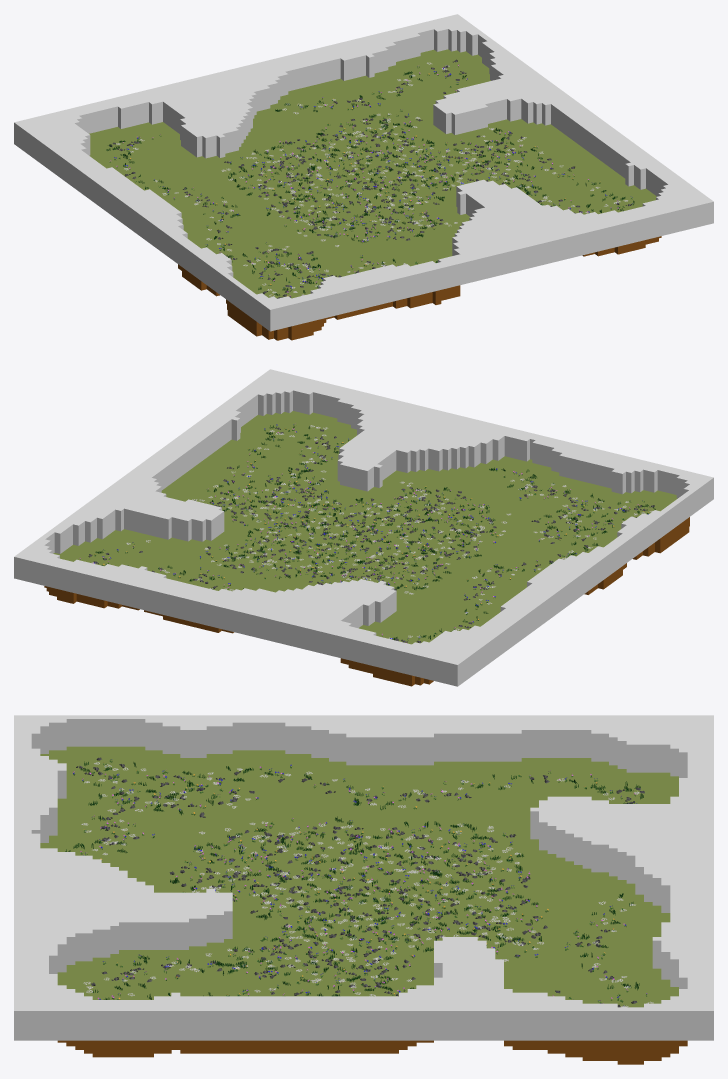
Rendered from mapa_1.fbx.
3 views of the same model, one above another, from view 1: azimuth 30°, elevation 25°; view 2: azimuth 150°, elevation 25°; view 3: azimuth 270°, elevation 25° (orthographic). The views are drawn at different scales.
Visible parts, largest first — view 1: piso, coliciones, plantas; view 2: piso, coliciones, plantas; view 3: piso, coliciones, plantas.
Boxes of the visible parts, box(x1,y1,x2,y2) form: piso: box(89, 49, 661, 340); coliciones: box(14, 14, 713, 331); plantas: box(106, 59, 634, 298); piso: box(44, 411, 689, 686); coliciones: box(14, 369, 713, 686); plantas: box(79, 423, 655, 643); piso: box(40, 746, 687, 1064); coliciones: box(14, 715, 713, 1040); plantas: box(65, 757, 653, 1007).
Size of the model in its own units: 8000 by 724 by 8000.
